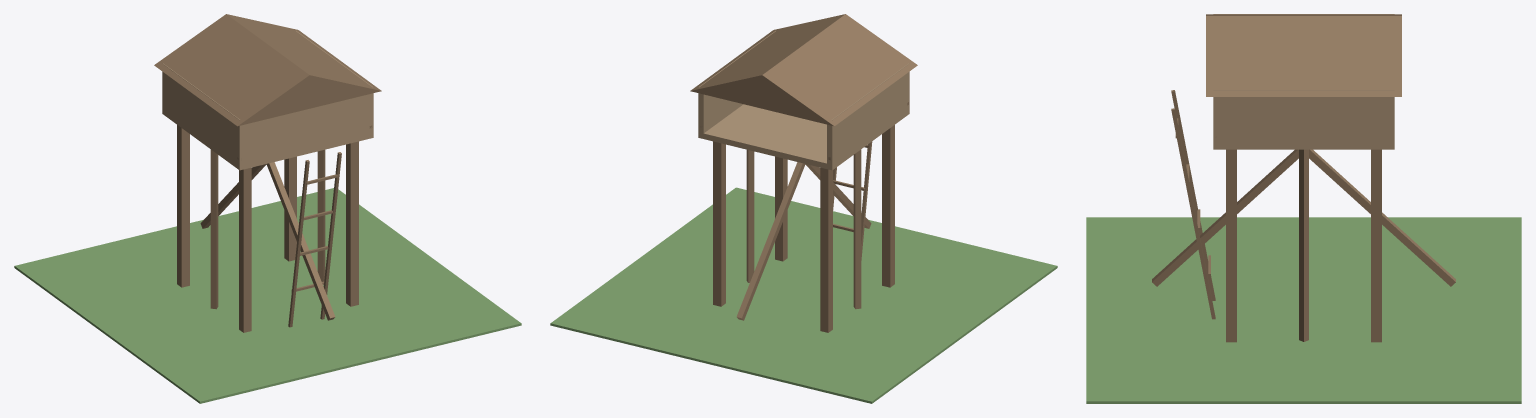
Rendered from deer_stand.glb.
The picture shows the model from 3 angles, left to right: view 1: azimuth 30°, elevation 25°; view 2: azimuth 150°, elevation 25°; view 3: azimuth 270°, elevation 25°; orthographic projection. The views are drawn at different scales.
Parts seen in each view (by area): view 1: ground, roof, rail_b, rail_l, leg_br, leg_bl, leg_fl, brace_z_bl_br, brace_x_fl_bl, platform, brace_x_fr_br, leg_fr (+3 smaller); view 2: ground, roof, platform, rail_l, leg_fr, leg_fl, leg_bl, brace_z_fl_fr, brace_x_fl_bl, brace_x_fr_br, rail_r, leg_br (+2 smaller); view 3: ground, roof, rail_r, leg_fr, leg_br, brace_x_fr_br, brace_z_fl_fr, brace_z_bl_br, platform, ladder_r, ladder_l.
Boxes of the visible parts, x1,y1,x2,y2 form: ground: [14, 188, 521, 403]; roof: [154, 14, 381, 126]; rail_b: [236, 93, 373, 164]; rail_l: [162, 63, 244, 164]; leg_br: [346, 141, 358, 306]; leg_bl: [239, 167, 251, 332]; leg_fl: [177, 125, 189, 287]; brace_z_bl_br: [266, 162, 335, 320]; brace_x_fl_bl: [210, 149, 218, 309]; platform: [162, 108, 373, 170]; brace_x_fr_br: [317, 149, 325, 281]; leg_fr: [284, 156, 296, 261]; ground: [550, 187, 1057, 403]; roof: [690, 14, 917, 126]; platform: [698, 104, 909, 170]; rail_l: [827, 63, 909, 164]; leg_fr: [713, 141, 725, 306]; leg_fl: [820, 167, 832, 332]; leg_bl: [882, 125, 894, 287]; brace_z_fl_fr: [736, 162, 805, 320]; brace_x_fl_bl: [853, 149, 861, 309]; brace_x_fr_br: [746, 149, 754, 282]; rail_r: [698, 31, 775, 133]; leg_br: [775, 156, 787, 261]; ground: [1086, 217, 1521, 403]; roof: [1206, 14, 1401, 96]; rail_r: [1213, 90, 1394, 143]; leg_fr: [1371, 149, 1381, 342]; leg_br: [1226, 149, 1236, 342]; brace_x_fr_br: [1299, 149, 1308, 341]; brace_z_fl_fr: [1309, 149, 1455, 286]; brace_z_bl_br: [1152, 149, 1298, 286]; platform: [1213, 143, 1394, 149]; ladder_r: [1171, 108, 1215, 319]; ladder_l: [1171, 90, 1215, 300].
Size of the model in its own units: 6 by 4.73 by 6.
